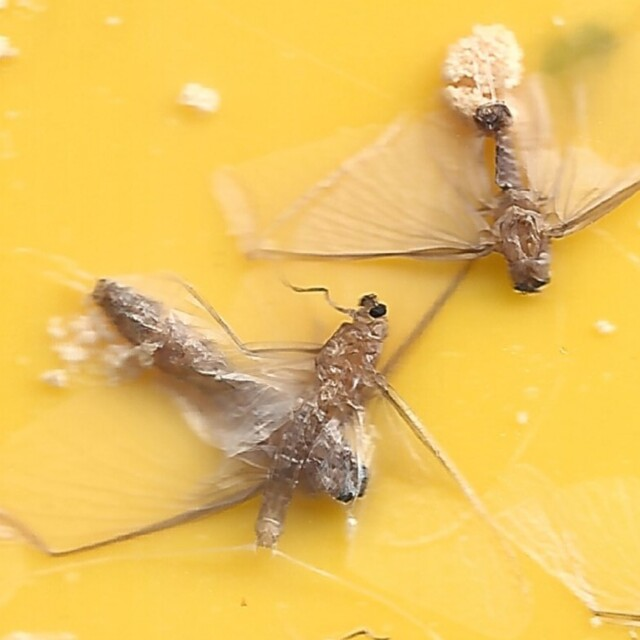Ephemeroptera: (81, 270, 369, 517), (249, 285, 402, 548), (473, 92, 559, 303)
